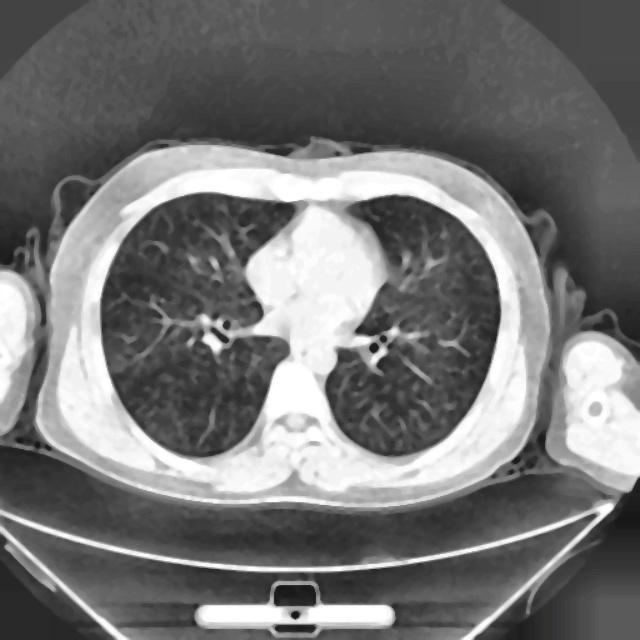covid: (31, 137, 560, 513)
